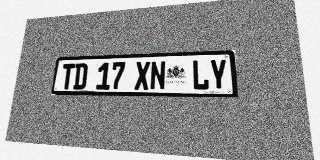1: (96, 62, 111, 90)
7: (110, 62, 125, 90)
D: (73, 63, 88, 90)
L: (192, 59, 209, 90)
N: (150, 61, 166, 90)
T: (60, 63, 75, 89)
X: (134, 61, 150, 90)
Y: (209, 59, 228, 90)
